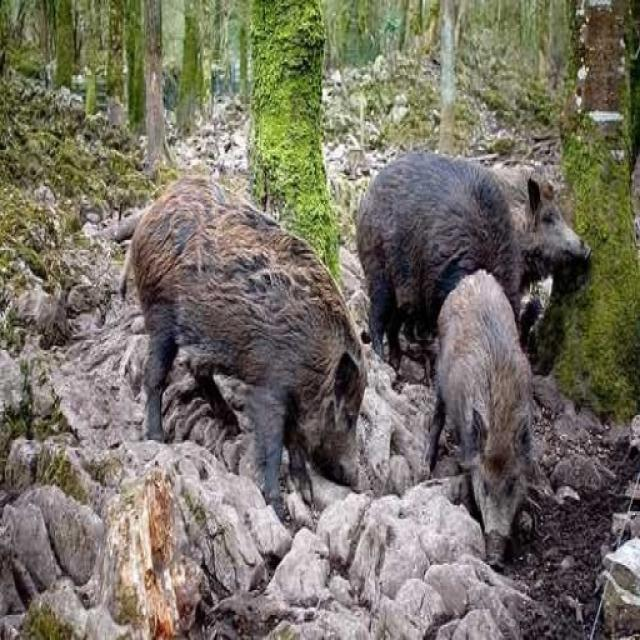pig: (104, 130, 435, 486)
